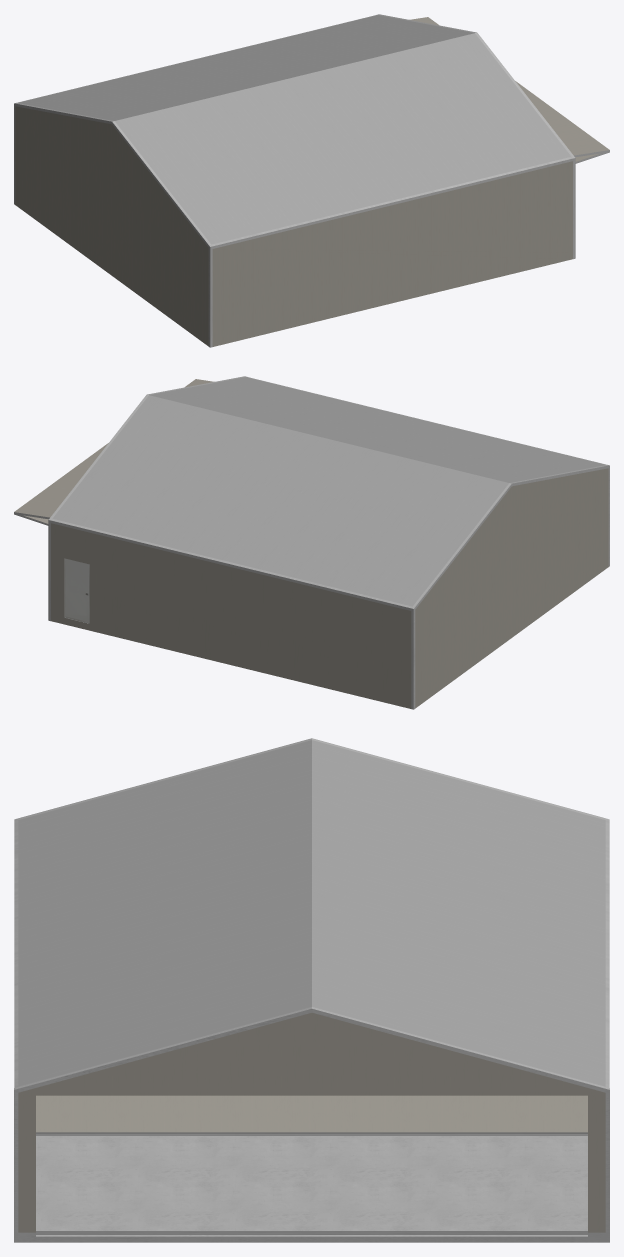
Rendered from gen_open_hangar02-14x15x4-cbj_LOD01.gltf.
3 renders of one model, top to bottom at view 1: azimuth 30°, elevation 25°; view 2: azimuth 150°, elevation 25°; view 3: azimuth 270°, elevation 25°, orthographic. The views are drawn at different scales.
Parts seen in each view (by area): view 1: Cube.007; view 2: Cube.007; view 3: Cube.007.
Boxes of the visible parts, x1,y1,x2,y2 form: Cube.007: (14, 14, 609, 347); Cube.007: (14, 376, 609, 709); Cube.007: (14, 738, 609, 1242).
Bounding box in the file's own units: 16.15 × 5.85 × 13.5.
